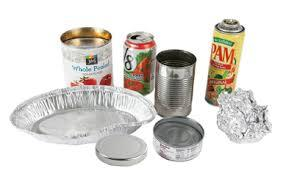Aerosols: (208, 14, 238, 90)
Aluminum can: (124, 26, 155, 93)
Tin: (56, 28, 115, 83), (154, 112, 205, 162), (158, 48, 196, 115), (97, 136, 151, 169)
